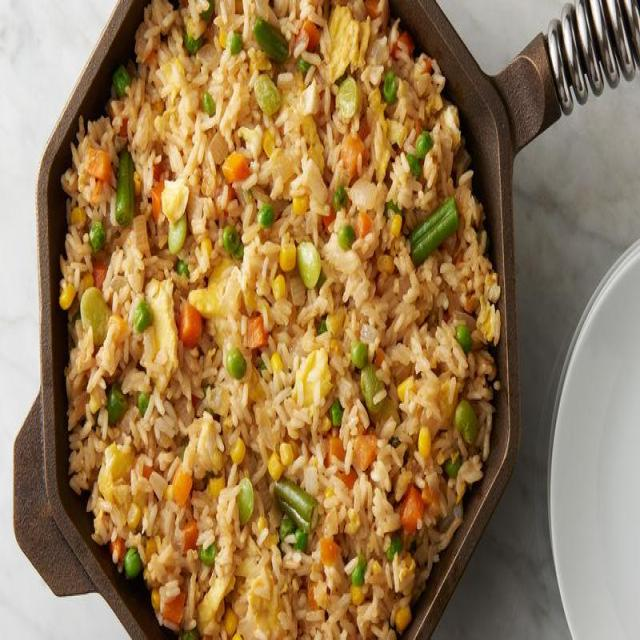Nasi Goreng: (57, 0, 502, 636)
